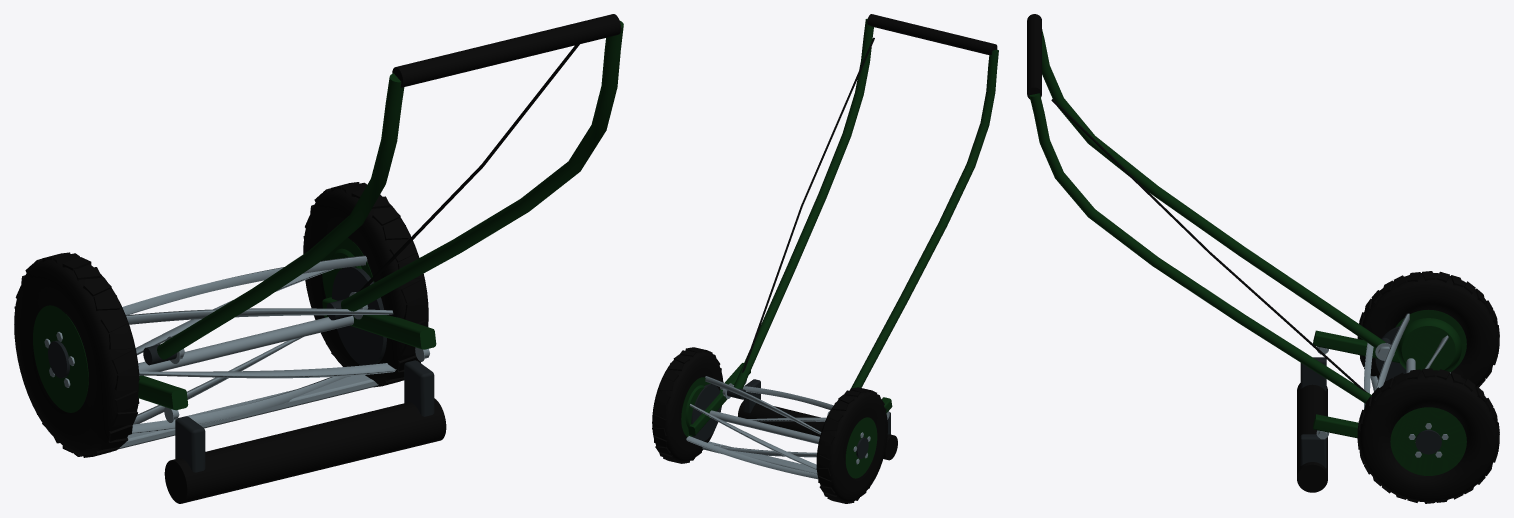
The model's file is ReelMower.gltf.
The picture shows the model from 3 angles, left to right: view 1: azimuth 30°, elevation 25°; view 2: azimuth 150°, elevation 25°; view 3: azimuth 270°, elevation 25°; orthographic projection. The views are drawn at different scales.
Visible parts, largest first — view 1: ReelMower__Body, ReelMower__Wheel_L, ReelMower__Wheel_Reel, ReelMower__Wheel_R; view 2: ReelMower__Body, ReelMower__Wheel_L, ReelMower__Wheel_Reel, ReelMower__Wheel_R; view 3: ReelMower__Body, ReelMower__Wheel_R, ReelMower__Wheel_L, ReelMower__Wheel_Reel.
Boxes of the visible parts, <box> form: ReelMower__Body: <box>118,14,623,503</box>; ReelMower__Wheel_L: <box>14,252,139,457</box>; ReelMower__Wheel_Reel: <box>122,255,396,434</box>; ReelMower__Wheel_R: <box>303,182,428,387</box>; ReelMower__Body: <box>685,14,998,473</box>; ReelMower__Wheel_L: <box>816,387,887,503</box>; ReelMower__Wheel_Reel: <box>686,376,833,479</box>; ReelMower__Wheel_R: <box>652,347,723,463</box>; ReelMower__Body: <box>1027,14,1461,492</box>; ReelMower__Wheel_R: <box>1357,368,1499,503</box>; ReelMower__Wheel_L: <box>1357,271,1499,387</box>; ReelMower__Wheel_Reel: <box>1364,313,1450,408</box>.
Size of the model in its own units: 0.714 by 1.21 by 1.29.
Materials: 1 (1 with a texture image).
